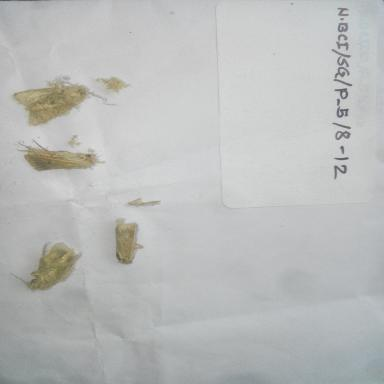abw: (8, 75, 123, 130), (5, 236, 87, 295), (8, 136, 105, 176), (108, 212, 148, 270)
